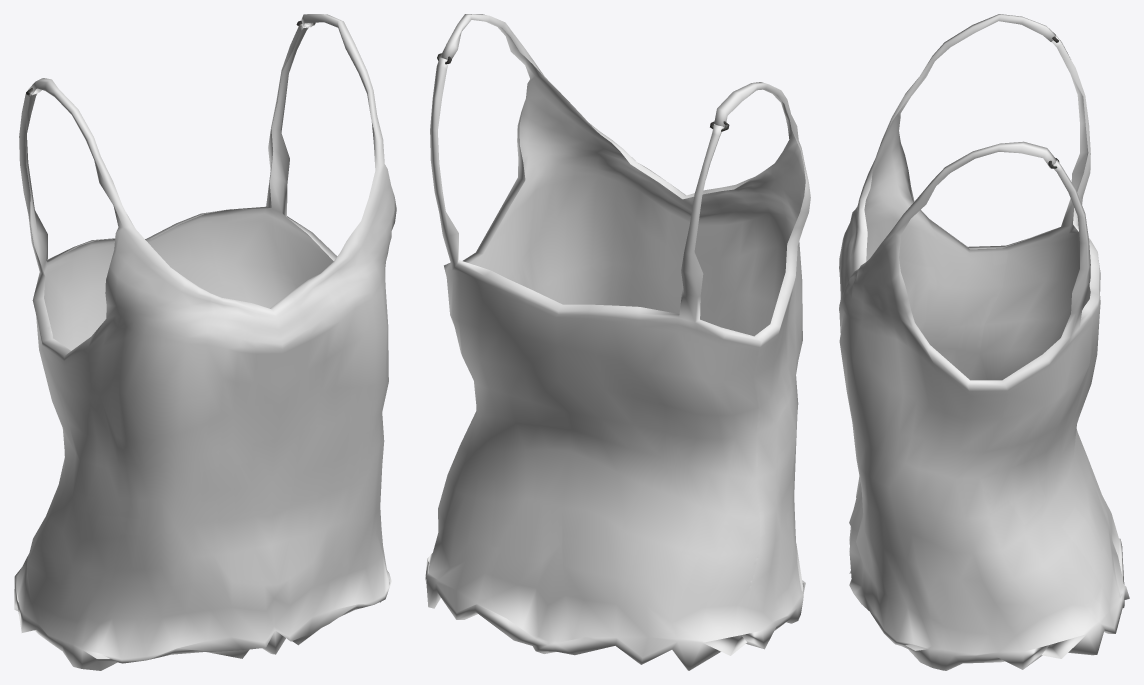
The model's file is punkduck-v-neck-top.glb.
3 renders of one model, left to right at view 1: azimuth 30°, elevation 25°; view 2: azimuth 150°, elevation 25°; view 3: azimuth 270°, elevation 25°, orthographic. The views are drawn at different scales.
Parts seen in each view (by area): view 1: Human.punkduck_v_neck_top; view 2: Human.punkduck_v_neck_top; view 3: Human.punkduck_v_neck_top.
Part boxes in pixels (x1,y1,x2,y2): Human.punkduck_v_neck_top: (14, 14, 396, 670); Human.punkduck_v_neck_top: (425, 14, 810, 670); Human.punkduck_v_neck_top: (839, 14, 1129, 670).
Size of the model in its own units: 0.3644 by 0.5863 by 0.2959.
Materials: 1 (1 with a texture image).
